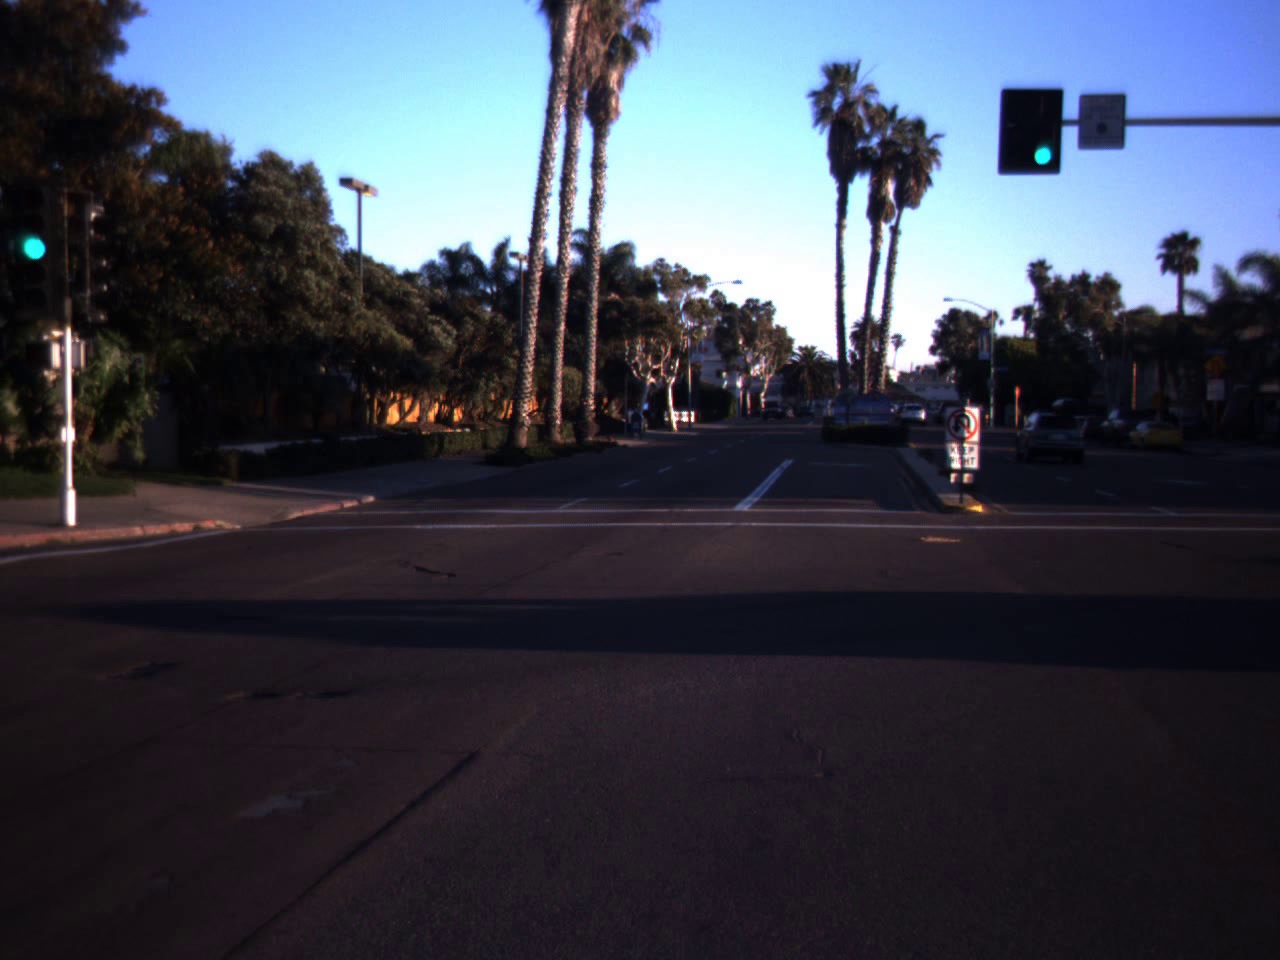go: (6, 172, 63, 267), (1022, 92, 1064, 172)
